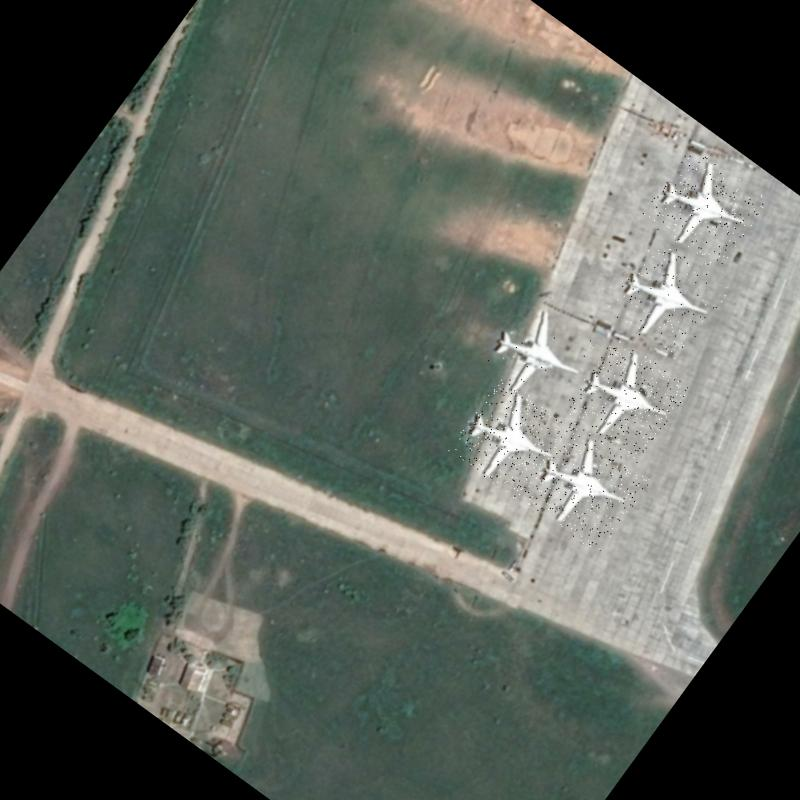A6: (517, 420, 652, 554), (473, 292, 604, 422), (640, 144, 770, 273), (562, 334, 690, 463), (446, 376, 575, 504), (604, 236, 730, 363)
